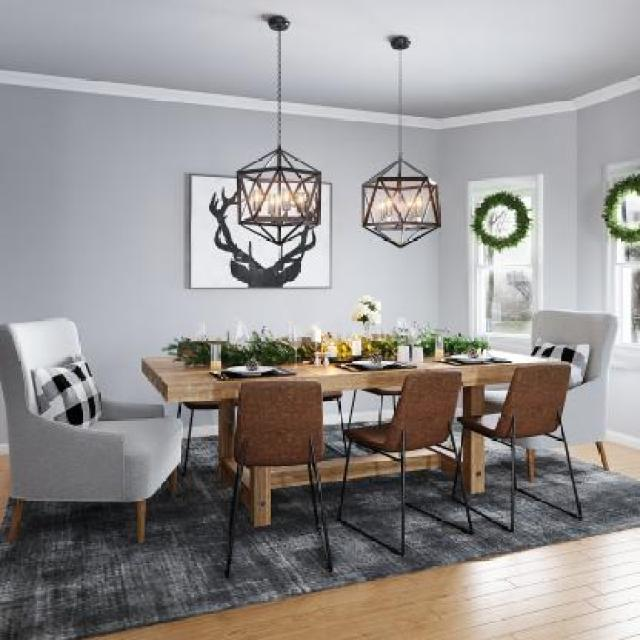floor: (9, 430, 640, 640), (342, 479, 397, 548), (520, 458, 578, 515), (0, 454, 17, 632), (409, 472, 465, 524), (473, 464, 510, 527)
